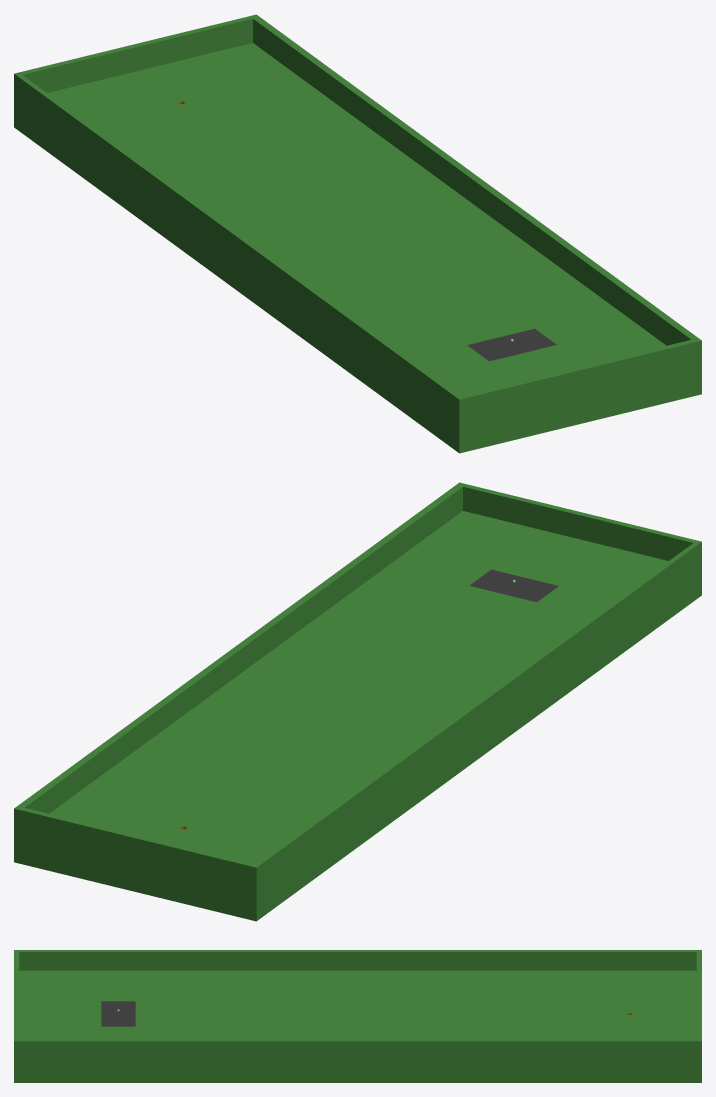
File: level_1.glb
The picture shows the model from 3 angles, top to bottom: view 1: azimuth 30°, elevation 25°; view 2: azimuth 150°, elevation 25°; view 3: azimuth 270°, elevation 25°; orthographic projection. The views are drawn at different scales.
Visible parts, largest first — view 1: green, start; view 2: green, start; view 3: green, start.
Part boxes in pixels (left/top/right/bottom): green: left=14, top=14, right=701, bottom=453; start: left=467, top=328, right=556, bottom=361; green: left=14, top=482, right=701, bottom=921; start: left=469, top=569, right=558, bottom=602; green: left=14, top=950, right=701, bottom=1082; start: left=101, top=1001, right=135, bottom=1026.
Size of the model in its own units: 3.92 by 0.8305 by 12.48.
